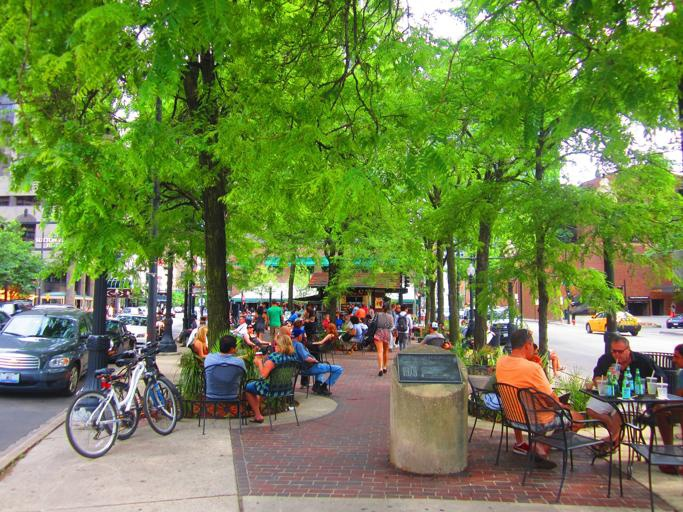non-vehicle: (64, 345, 174, 465), (98, 338, 183, 441)
